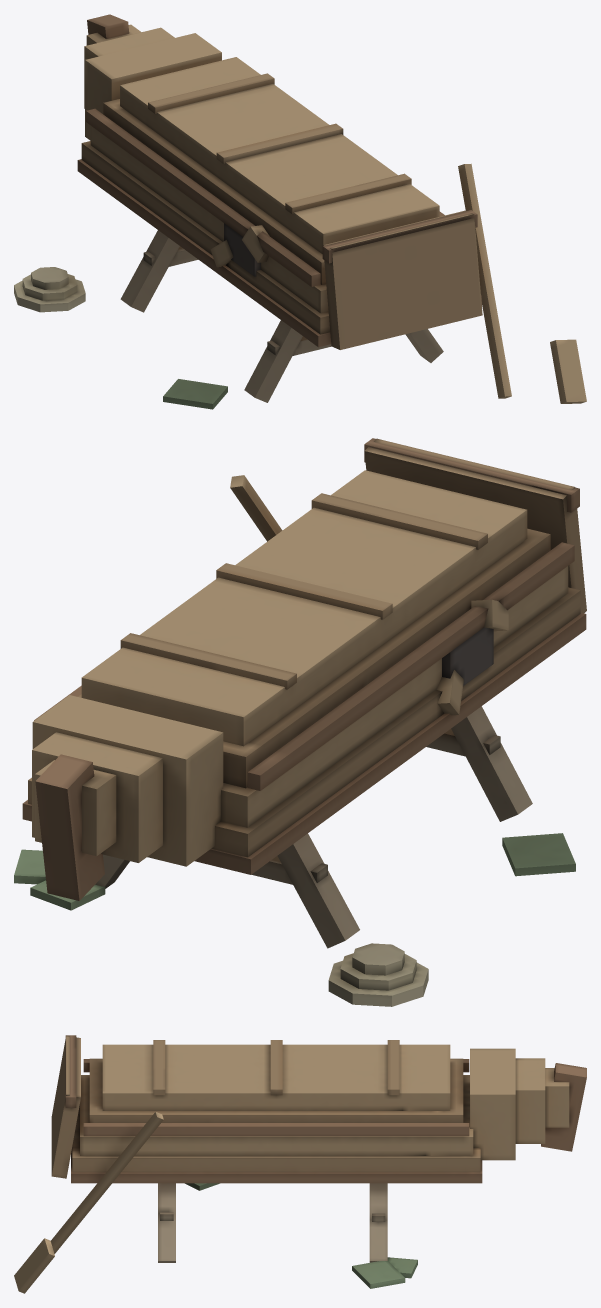
The model's file is boathull.glb.
3 renders of one model, top to bottom at view 1: azimuth 30°, elevation 25°; view 2: azimuth 150°, elevation 25°; view 3: azimuth 270°, elevation 25°, orthographic. The views are drawn at different scales.
Parts seen in each view (by area): view 1: boathull; view 2: boathull; view 3: boathull.
Part boxes in pixels (box(x1,y1,x2,y2)): boathull: box(14, 14, 586, 409); boathull: box(14, 438, 586, 1006); boathull: box(14, 1035, 586, 1293).
Size of the model in its own units: 4.4 by 2.44 by 7.58.
7 materials, 7 textured.
